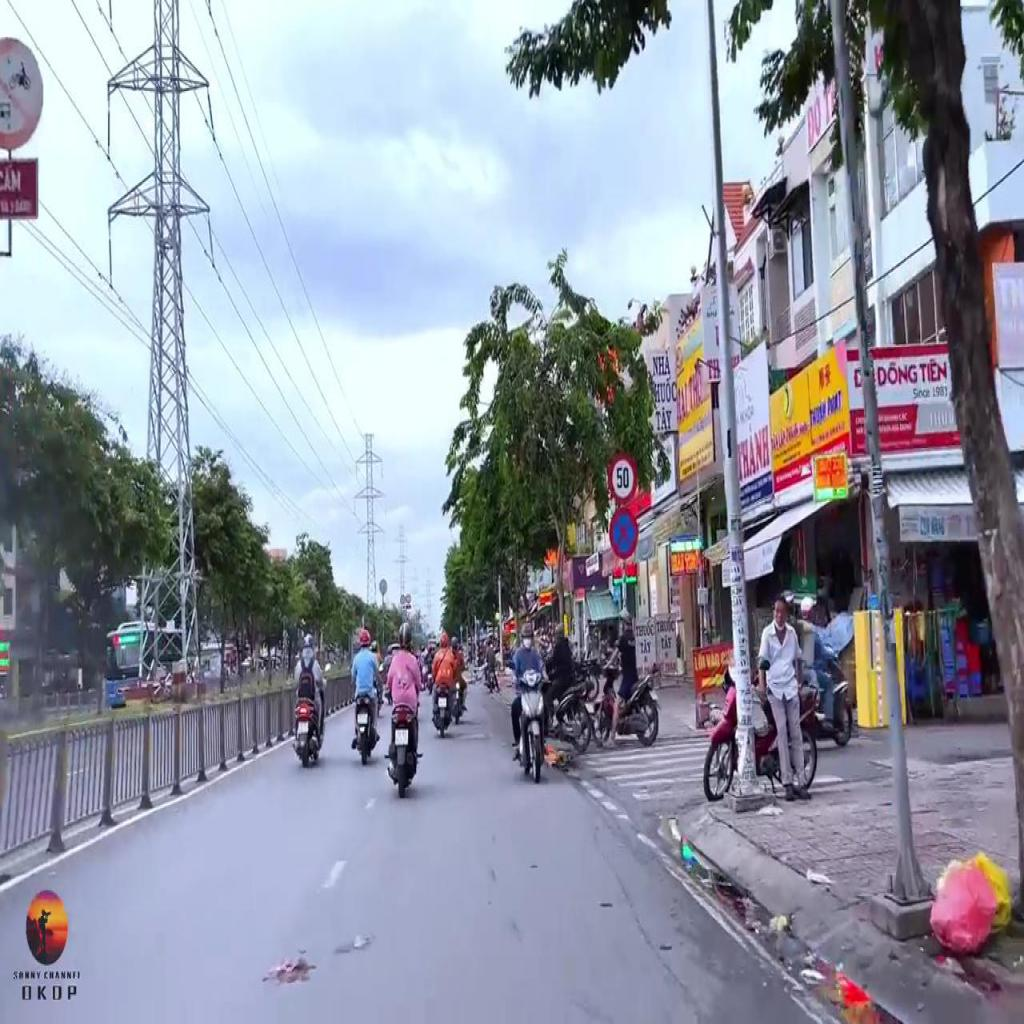cam_dung_xe_va_do_xe: (609, 506, 638, 559)
cam_xe_2_banh_va_xe_3_banh_co_dong_co: (0, 36, 43, 150)
toc_do_toi_da_50: (608, 452, 638, 506)
